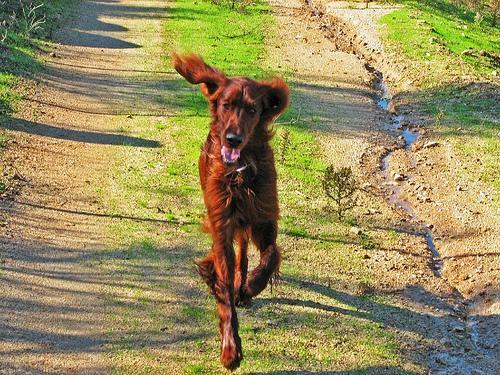Irish_setter: (172, 52, 290, 369)
